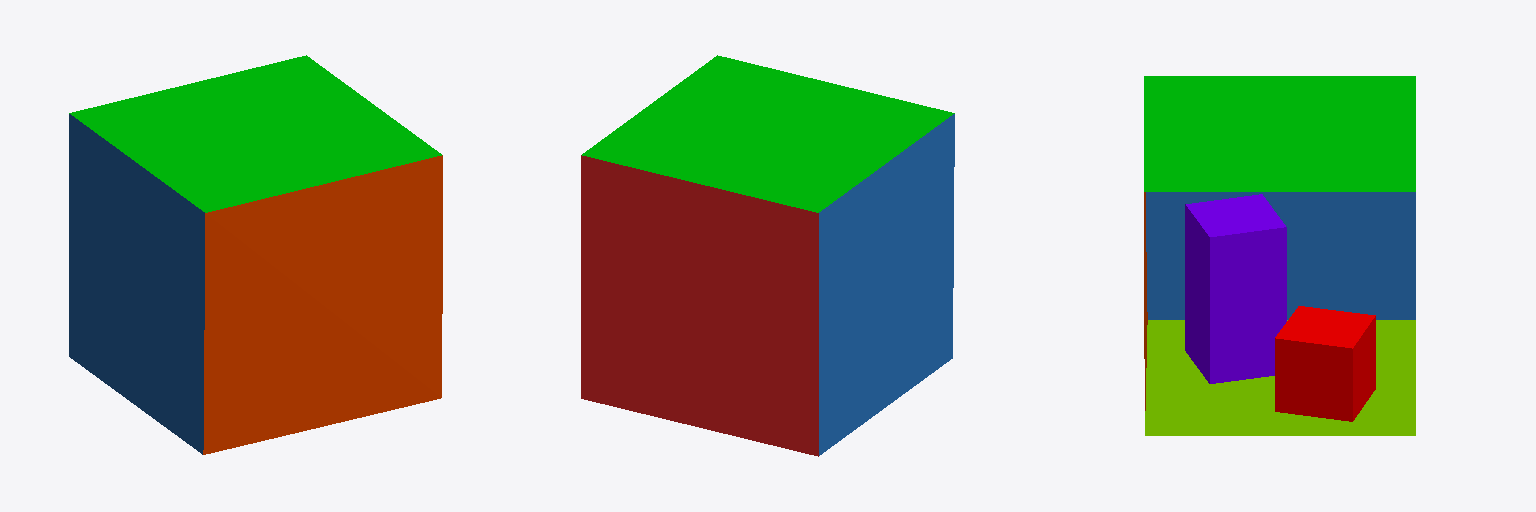
The model's file is Something.obj.
The picture shows the model from 3 angles: view 1: azimuth 30°, elevation 25°; view 2: azimuth 150°, elevation 25°; view 3: azimuth 270°, elevation 25°; orthographic projection.
Parts seen in each view (by area): view 1: Cornell_Box; view 2: Cornell_Box; view 3: Cornell_Box.
Part boxes in pixels (x1,y1,x2,y2): Cornell_Box: (69, 55, 442, 454); Cornell_Box: (581, 55, 954, 456); Cornell_Box: (1144, 76, 1415, 435).
Bounding box in the file's own units: 0.5075 × 0.4975 × 0.505.